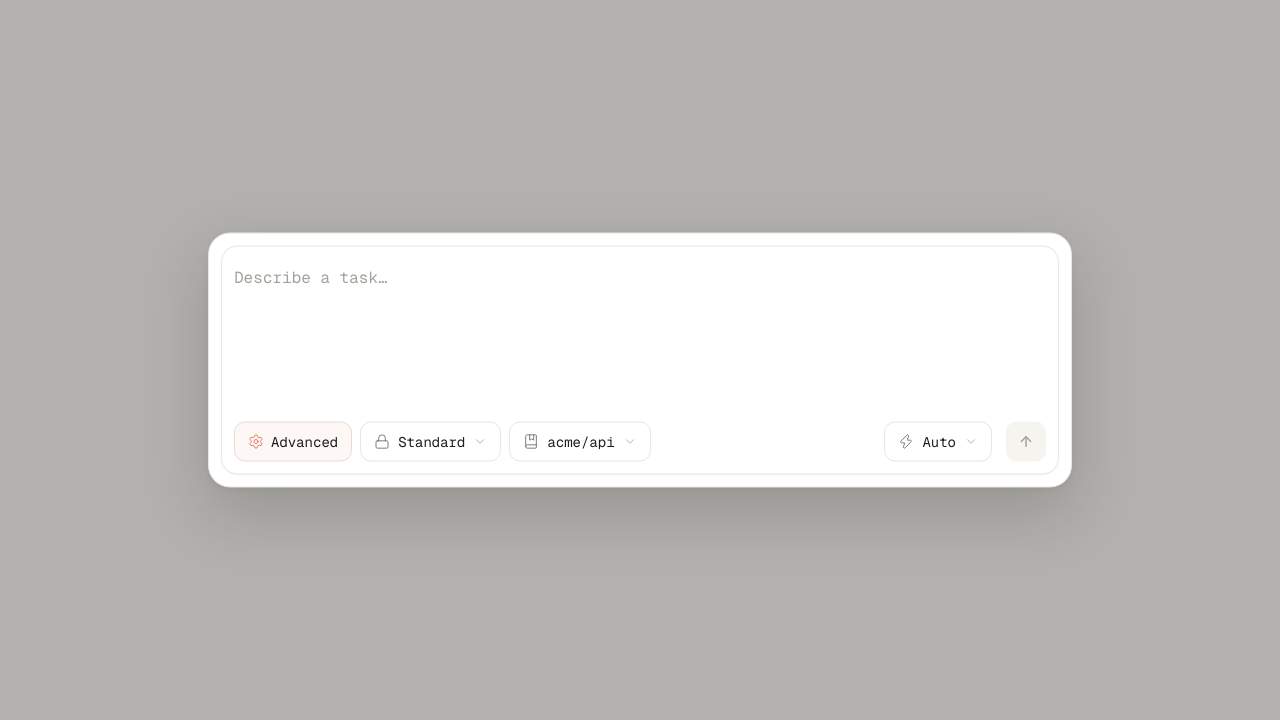
LaunchTaskModal (minimal box) › Repositories multi-select adds a repo and shows the count
What coordinates should you click on to do the following:
click the button titled "Repositories"
I would click on:
 (580, 442)
Its box is [509,422,651,462].
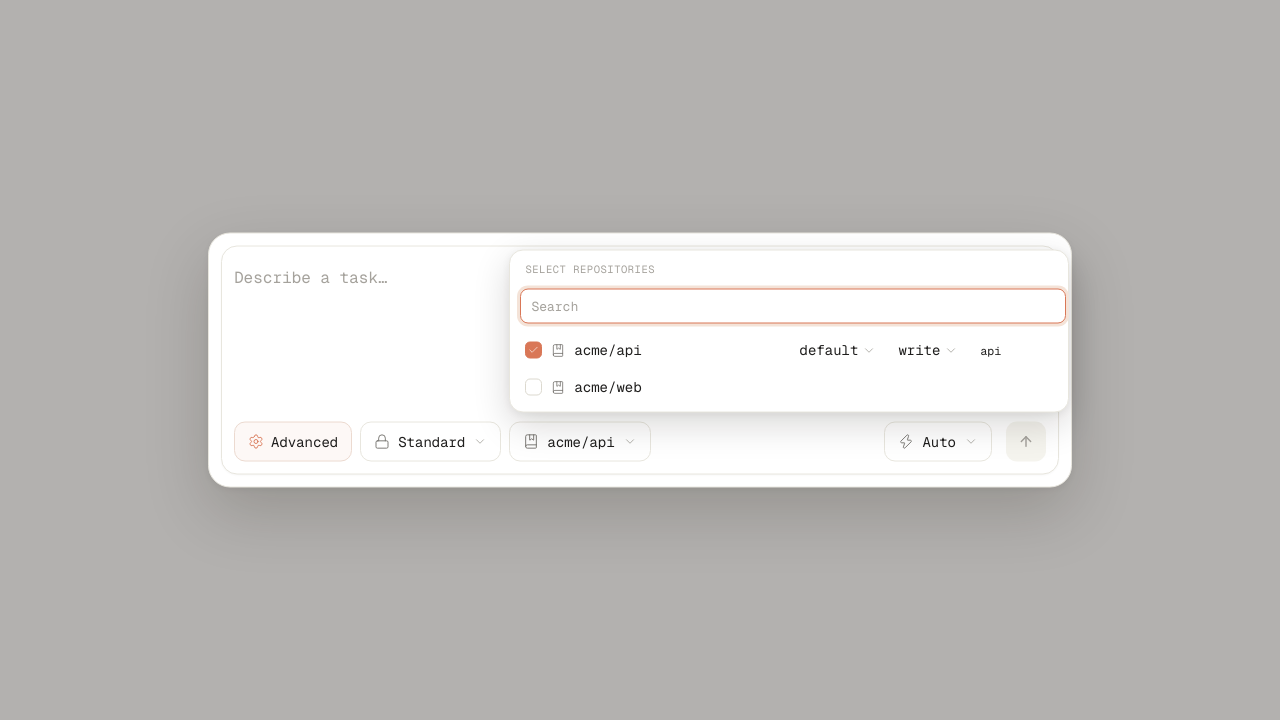
What coordinates should you click on to do the following:
click the button "acme/web"
I would click on:
 (608, 386)
Its box is [516,368,1055,406].
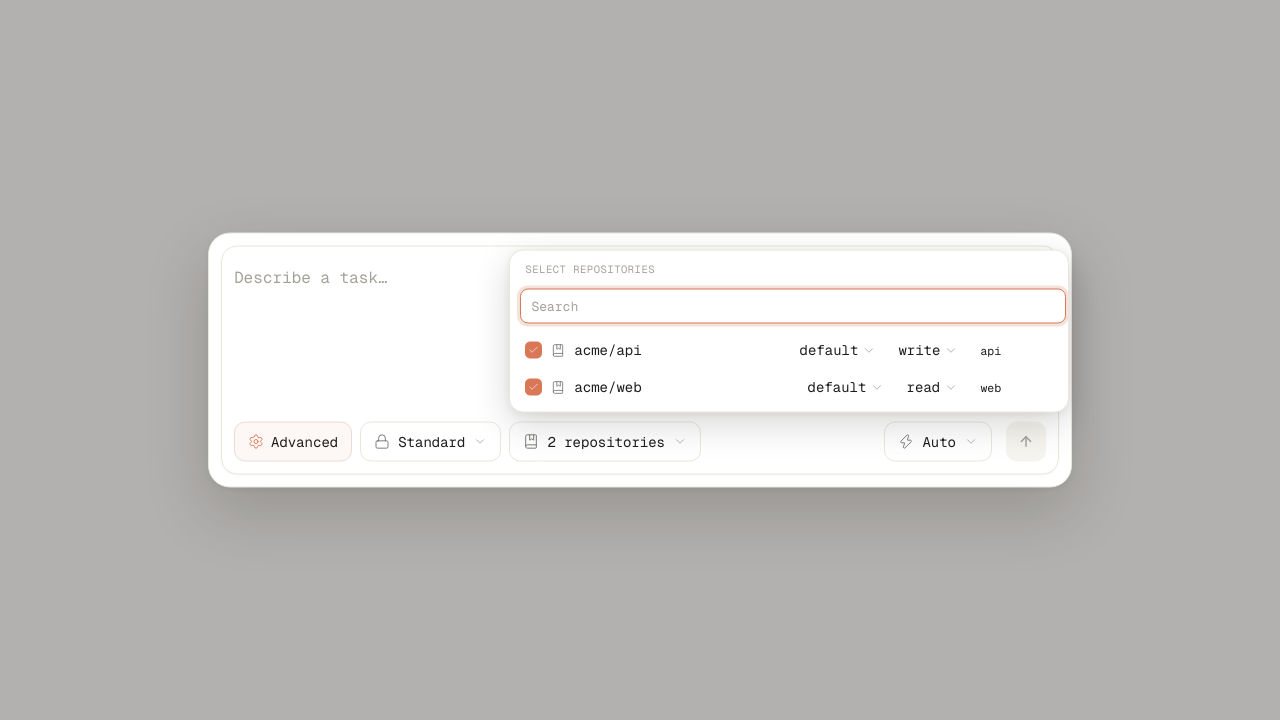
expect the button titled "Repositories" reads "2 repositories": met, box [509,422,701,462]
